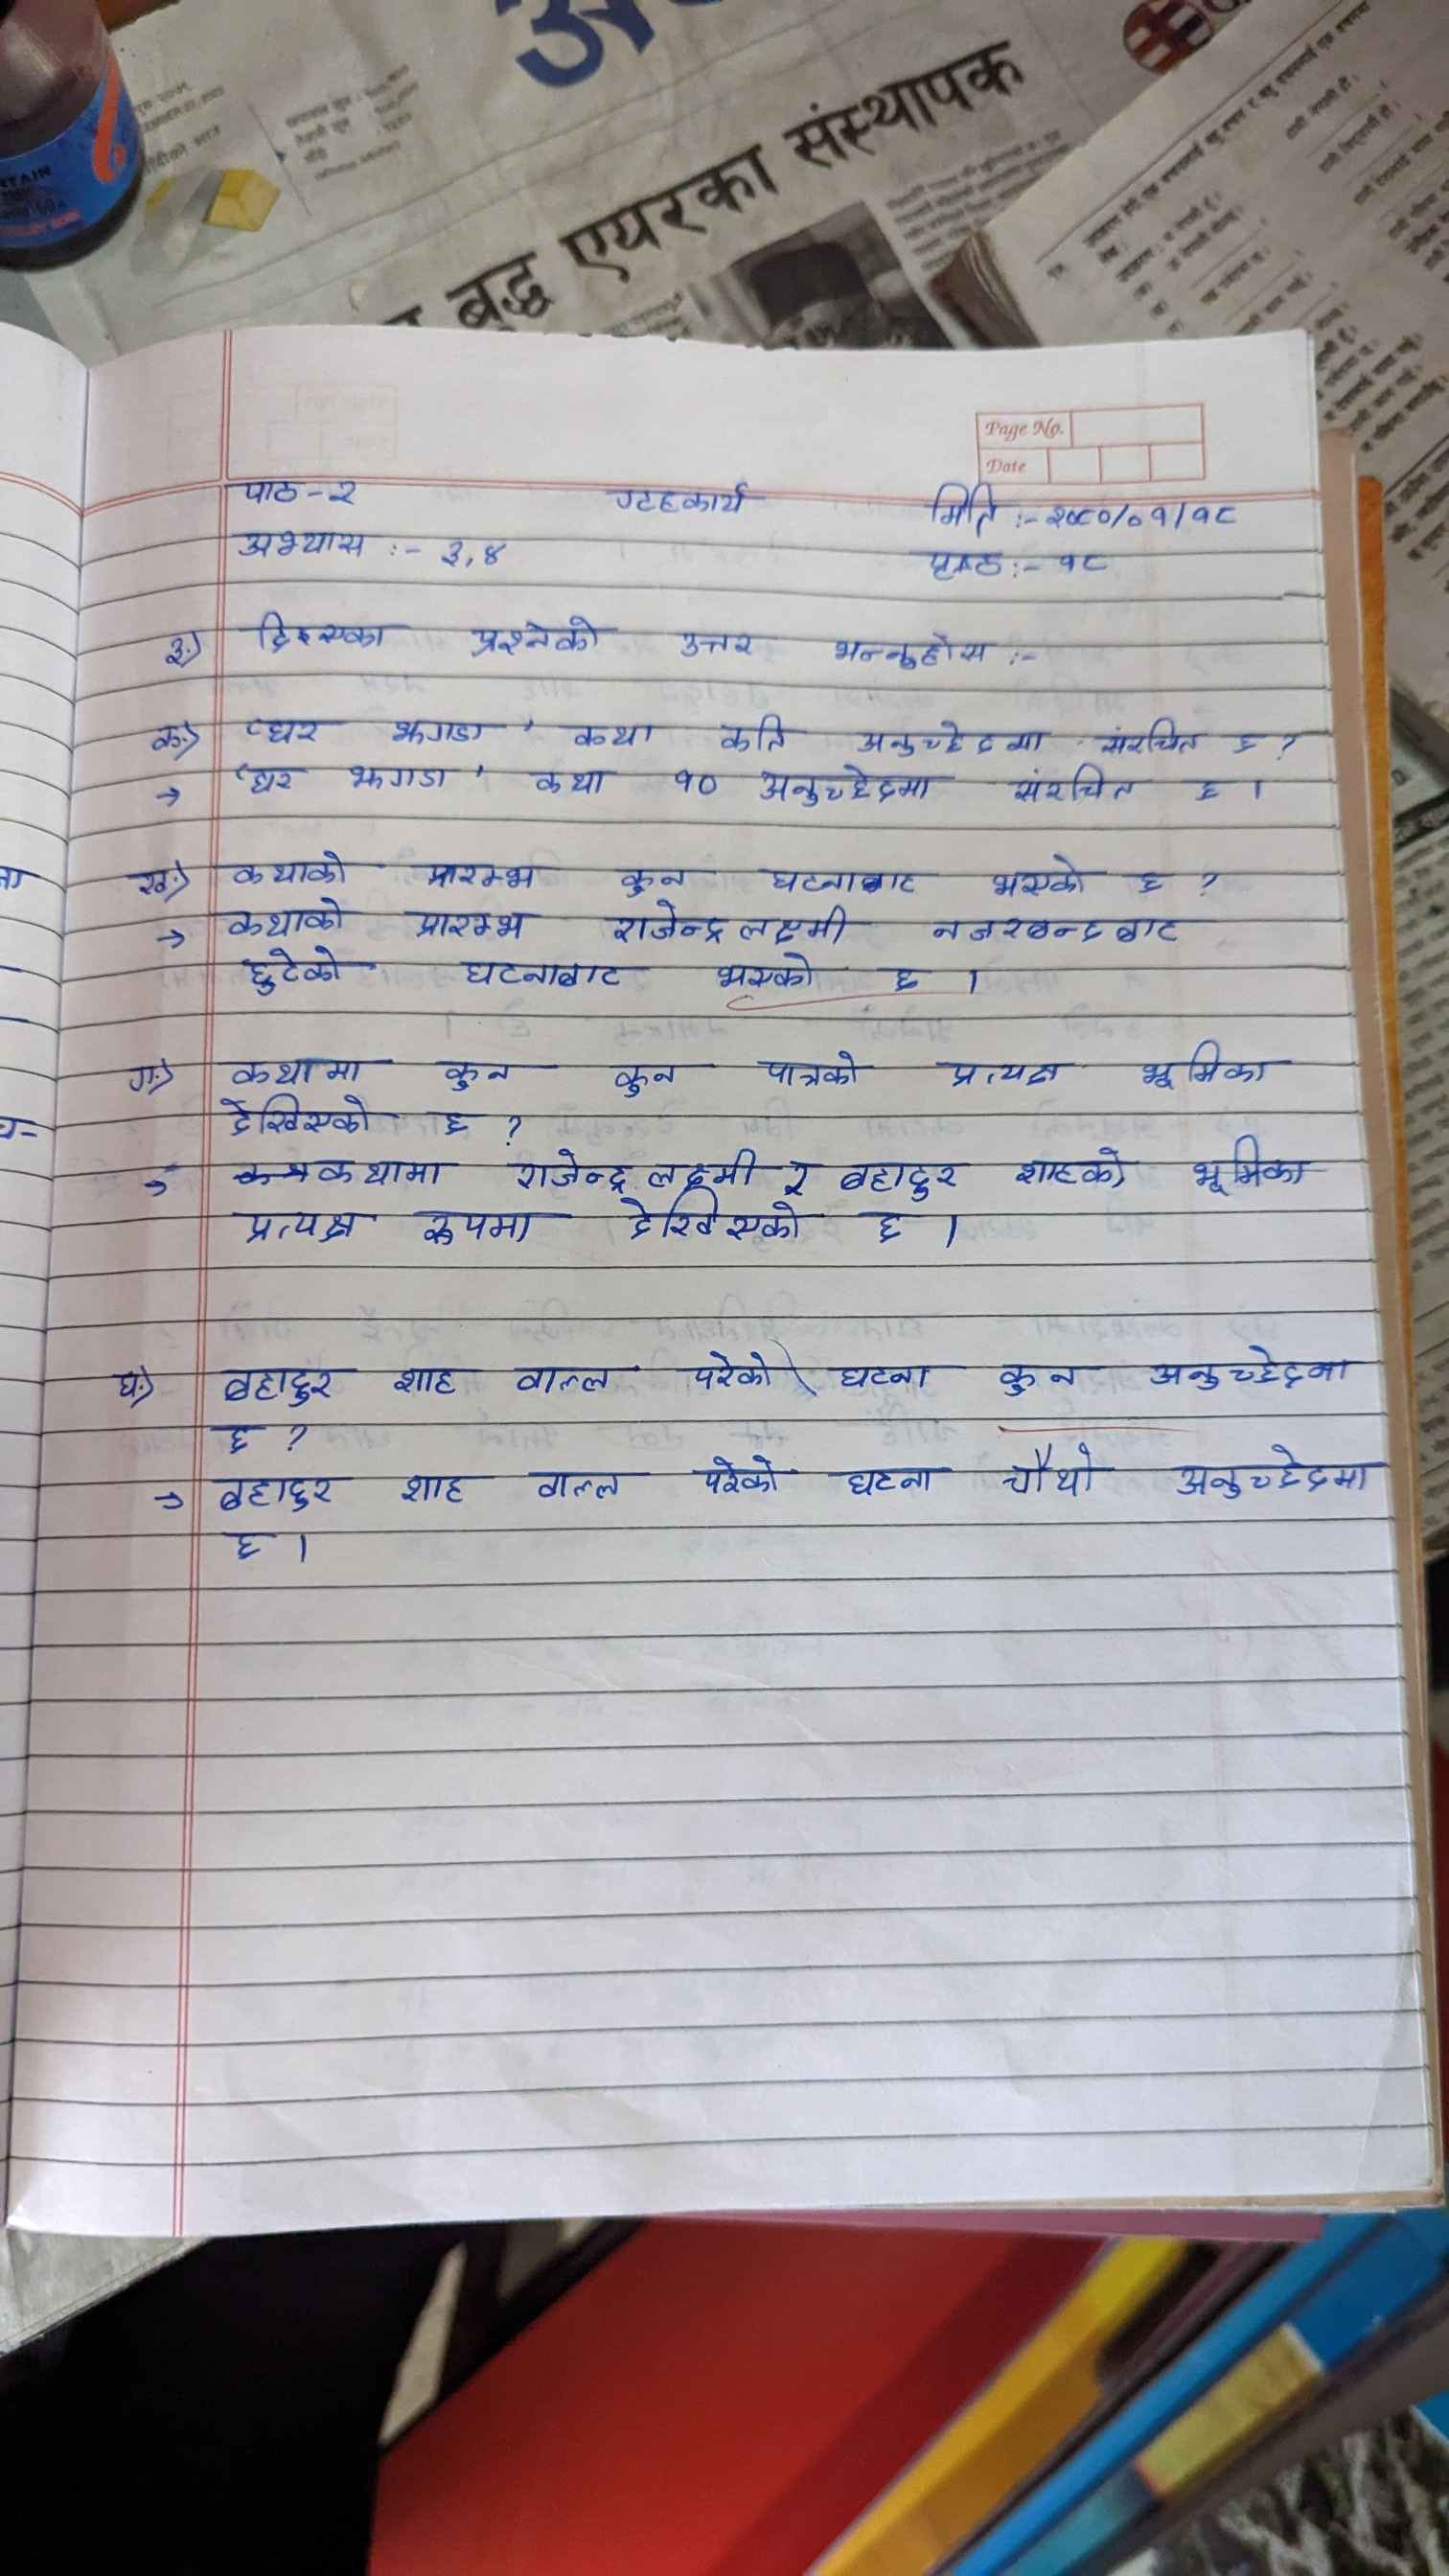text: (1155, 1444, 1373, 1502), (1180, 1129, 1334, 1208), (1122, 1033, 1304, 1099), (1148, 1343, 1362, 1394), (924, 911, 1201, 950), (603, 904, 855, 947), (455, 602, 619, 665), (1033, 490, 1261, 534), (616, 1196, 803, 1249), (602, 464, 764, 524), (752, 764, 947, 814), (844, 715, 1053, 761), (812, 621, 1000, 671), (1008, 1139, 1143, 1200), (994, 1440, 1111, 1509), (209, 1092, 384, 1134), (743, 1039, 870, 1095), (248, 609, 398, 655), (226, 524, 375, 570), (232, 1200, 372, 1247), (195, 1474, 357, 1514), (830, 1154, 968, 1201), (752, 862, 925, 899), (416, 1207, 534, 1260), (704, 948, 826, 1000), (501, 1353, 623, 1405), (239, 945, 352, 1000), (455, 961, 623, 996), (931, 1051, 1069, 1093), (214, 1361, 336, 1408), (221, 1053, 375, 1090), (984, 849, 1092, 901), (1005, 766, 1138, 807), (690, 1449, 787, 1504), (409, 902, 538, 943), (317, 1148, 446, 1189), (225, 899, 350, 939), (418, 855, 543, 895), (221, 849, 357, 886), (646, 1145, 755, 1191), (832, 1454, 936, 1502), (510, 1150, 630, 1191), (1095, 715, 1201, 761), (984, 1355, 1090, 1401), (679, 1348, 777, 1396), (349, 757, 456, 798), (525, 764, 617, 810), (566, 715, 665, 757), (826, 1359, 939, 1396), (904, 547, 1005, 587), (603, 1049, 681, 1100), (709, 708, 793, 755), (533, 1463, 617, 1509), (389, 711, 485, 752), (924, 478, 994, 533), (671, 625, 770, 663), (428, 1049, 517, 1090), (612, 858, 694, 901), (389, 1355, 458, 1405), (389, 1468, 472, 1509), (858, 1205, 922, 1256), (423, 536, 515, 570), (223, 474, 304, 511), (119, 1056, 172, 1111), (239, 759, 299, 800), (1047, 548, 1120, 580), (103, 1361, 147, 1410), (212, 1417, 262, 1461), (432, 1102, 483, 1145), (129, 860, 179, 902), (156, 625, 195, 676), (230, 1522, 269, 1573), (886, 957, 925, 1007), (671, 766, 722, 803), (771, 1148, 814, 1192), (258, 718, 333, 743), (1182, 777, 1235, 810), (142, 722, 193, 755), (320, 474, 364, 511), (1226, 725, 1263, 759), (1131, 865, 1166, 899)
